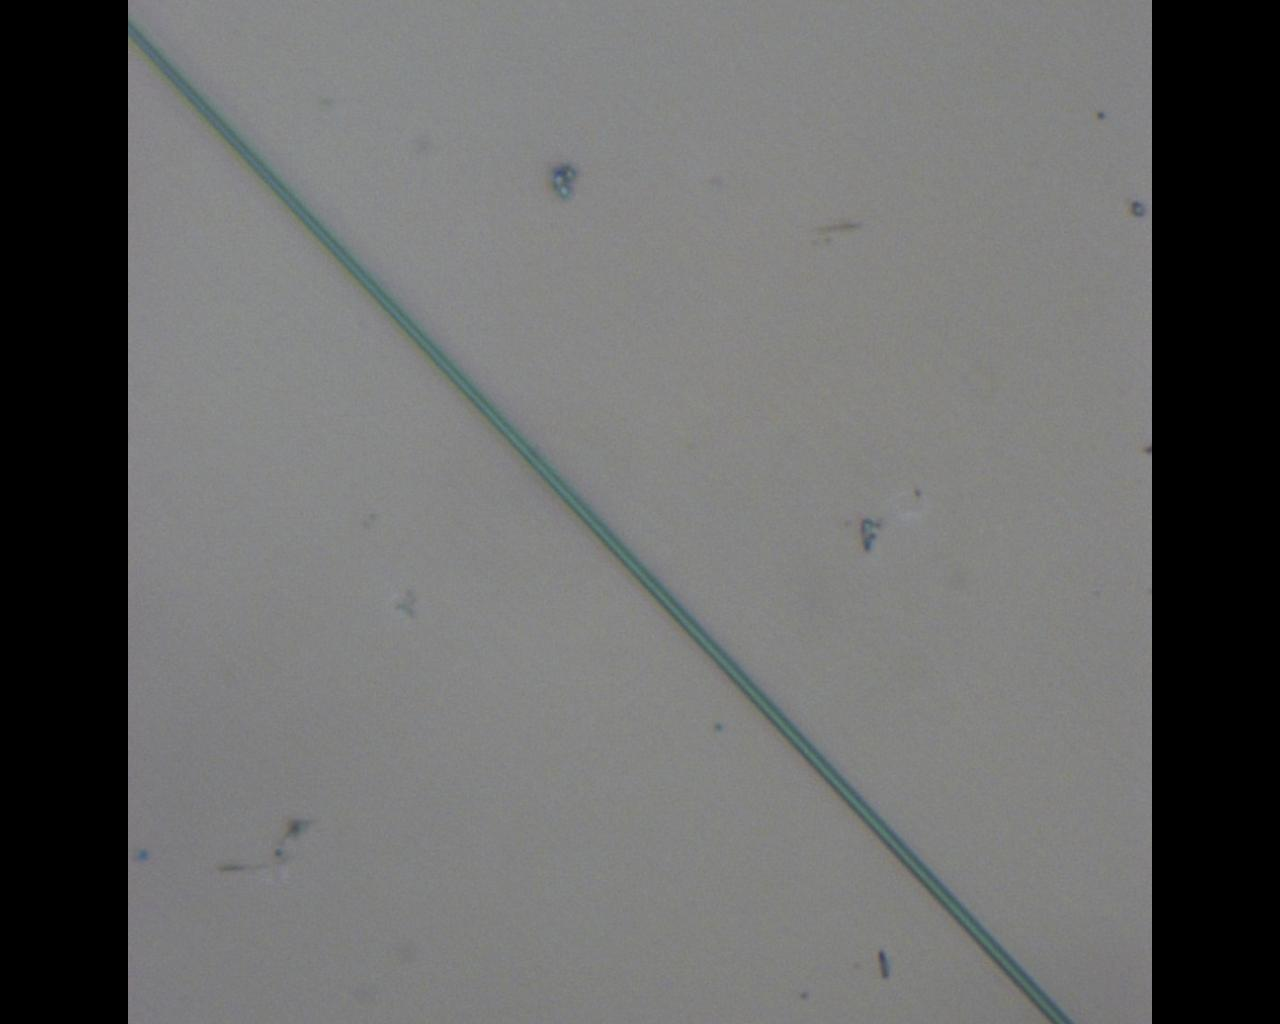fiber: (127, 15, 1077, 1024)
